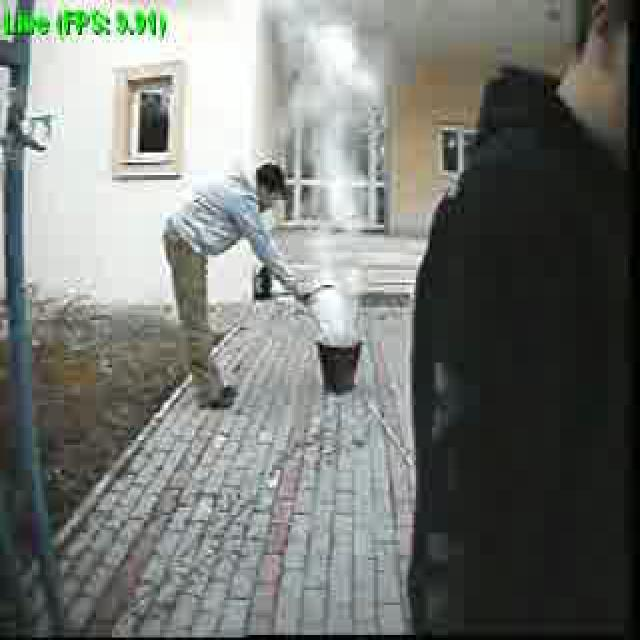Smoke: (300, 18, 370, 358)
